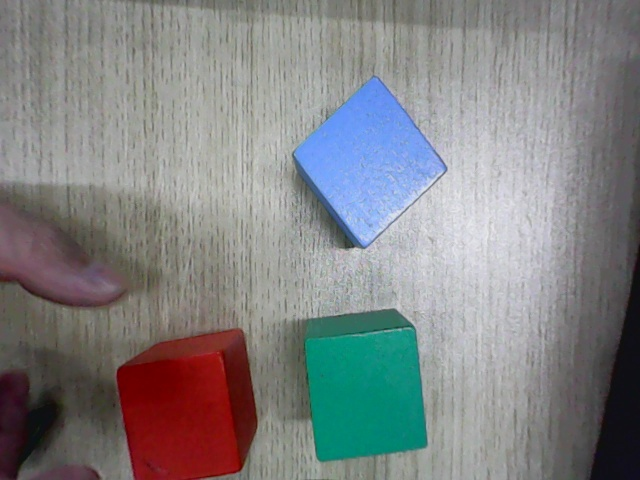upside of big cube: (292, 76, 448, 250), (304, 326, 430, 462), (117, 350, 239, 479)
